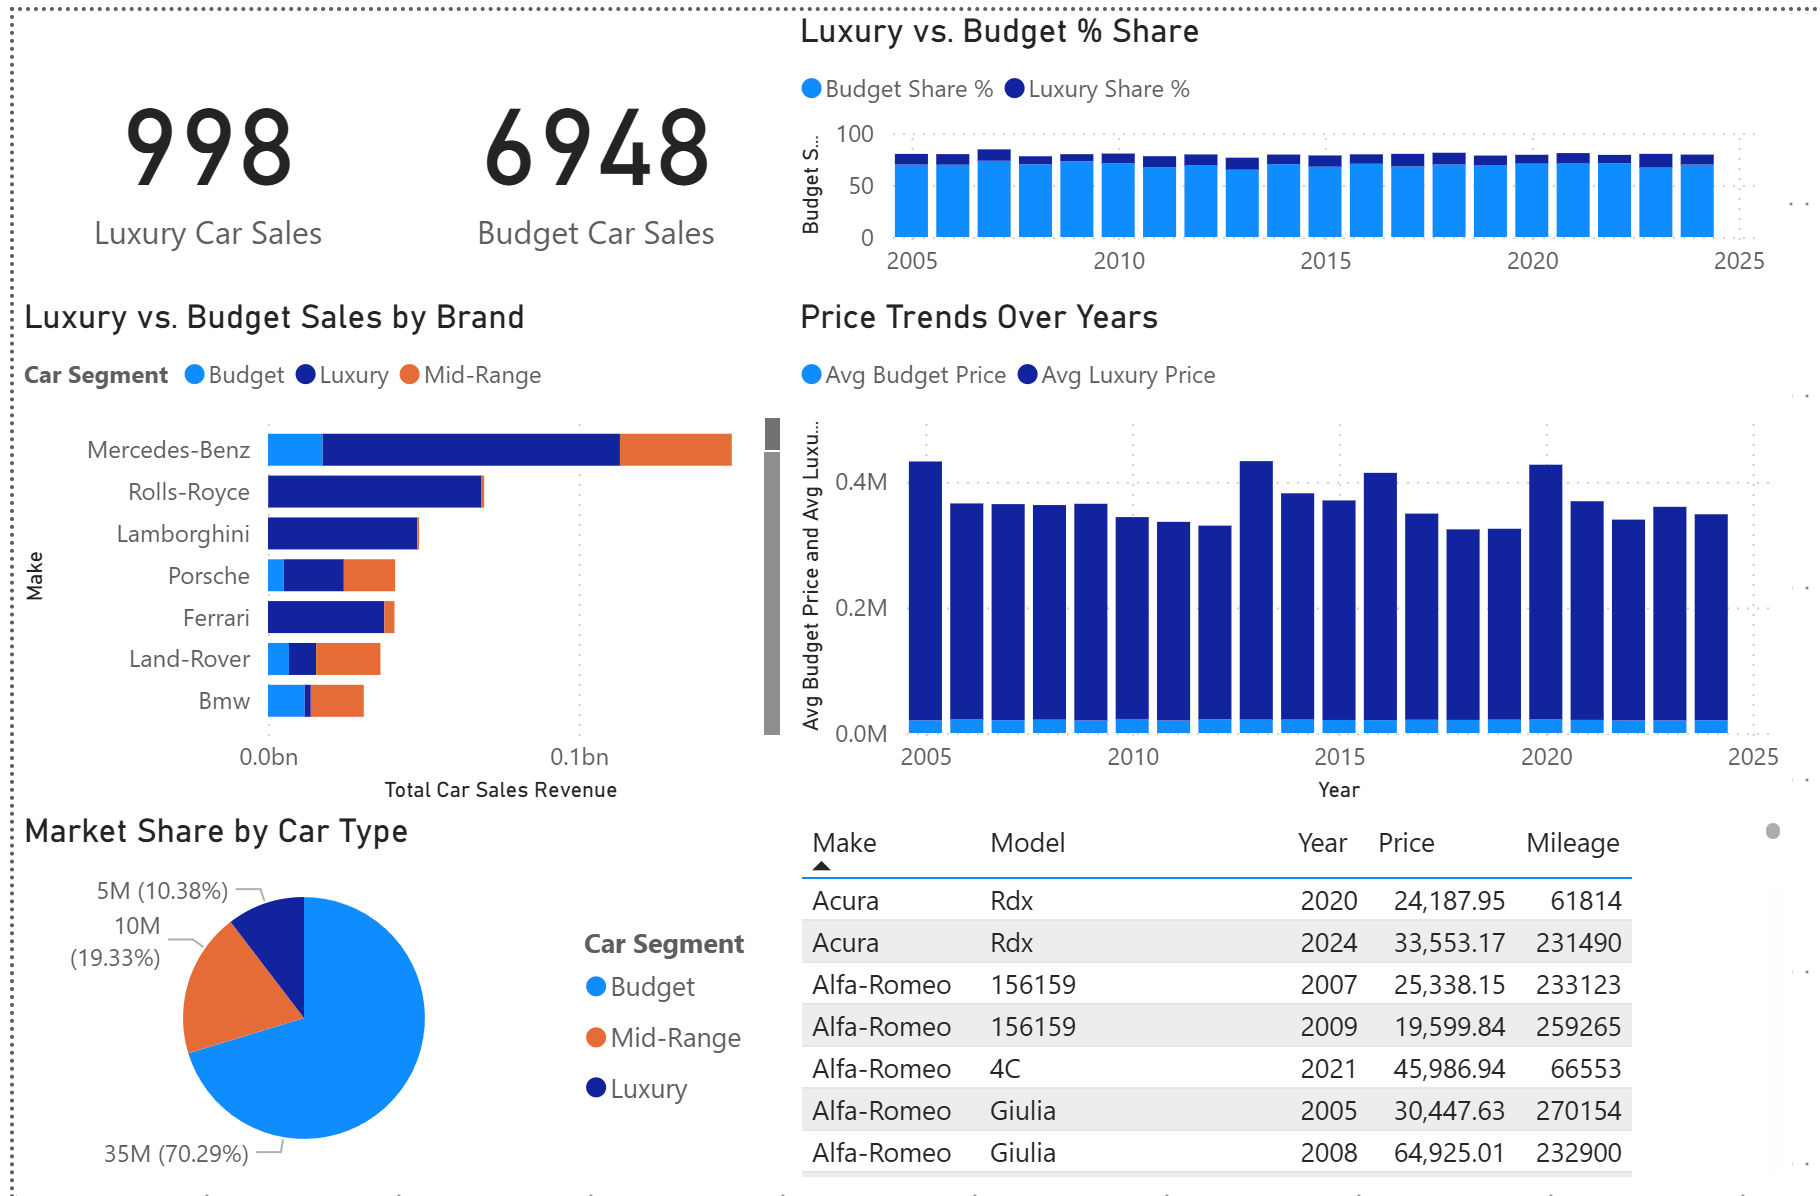

This screenshot's page, from the dashboard's own definition file:
{"tool":"powerbi","page":{"name":"Luxury vs. Budget Car Market Analysis","canvas":[1280,720],"ordinal":2},"visuals":[{"type":"card","fields":{"Values":["USED_CARS.Luxury Car Sales"]},"box":[0,0,194,143],"z":0},{"type":"card","fields":{"Values":["USED_CARS.Budget Car Sales"]},"box":[194,0,194,143],"z":1000},{"type":"columnChart","title":"Luxury vs. Budget % Share","fields":{"Y":["USED_CARS.Budget Share %","USED_CARS.Luxury Share %"],"Category":["USED_CARS.Year"]},"box":[388,0,494,143],"z":2000},{"type":"barChart","title":"Luxury vs. Budget Sales by Brand","fields":{"Category":["USED_CARS.Make"],"Y":["USED_CARS.Total Car Sales Revenue"],"Series":["USED_CARS.Car Segment"]},"box":[0,143,388,257],"z":3000},{"type":"lineStackedColumnComboChart","title":"Price Trends Over Years","fields":{"Category":["USED_CARS.Year"],"Y":["USED_CARS.Avg Budget Price","USED_CARS.Avg Luxury Price"]},"box":[388,143,501,257],"z":4000},{"type":"pieChart","title":"Market Share by Car Type","fields":{"Category":["USED_CARS.Car Segment"],"Y":["USED_CARS.Number"]},"box":[0,400,388,188],"z":5000},{"type":"tableEx","fields":{"Values":["USED_CARS.Make","USED_CARS.Model","USED_CARS.Year","USED_CARS.Price","USED_CARS.Mileage"]},"box":[388,400,501,188],"z":6000},{"type":"actionButton","box":[0,0,100,40],"z":7000}]}

Visuals, with their boxes on the page's 1280x720 design canvas (x1, y1, x2, y2). These are canvas units, not pixel positions in the 1820x1196 screenshot, which may show the page scaled, cropped or inside an application window:
card - USED_CARS.Luxury Car Sales: select_region(0, 0, 194, 143)
card - USED_CARS.Budget Car Sales: select_region(194, 0, 388, 143)
"Luxury vs. Budget % Share" columnChart: select_region(388, 0, 882, 143)
"Luxury vs. Budget Sales by Brand" barChart: select_region(0, 143, 388, 400)
"Price Trends Over Years" lineStackedColumnComboChart: select_region(388, 143, 889, 400)
"Market Share by Car Type" pieChart: select_region(0, 400, 388, 588)
tableEx - USED_CARS.Make x USED_CARS.Model: select_region(388, 400, 889, 588)
actionButton: select_region(0, 0, 100, 40)
